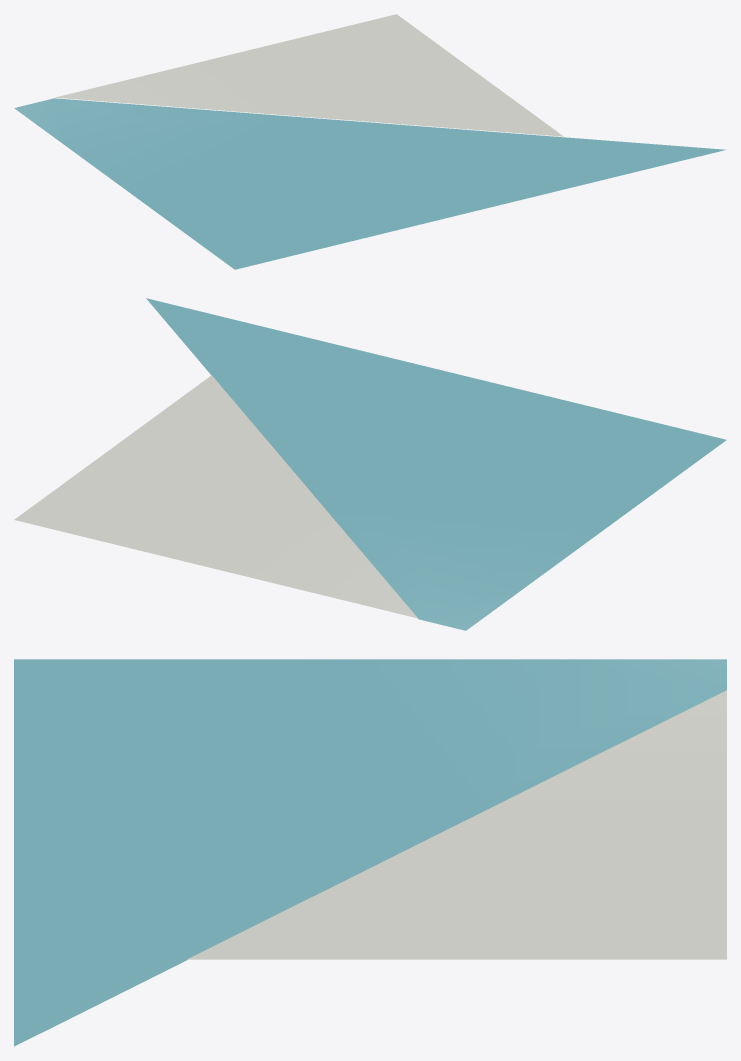
3 views of the same model, one above another, from view 1: azimuth 30°, elevation 25°; view 2: azimuth 150°, elevation 25°; view 3: azimuth 270°, elevation 25° (orthographic). The views are drawn at different scales.
Parts seen in each view (by area): view 1: city; view 2: city; view 3: city.
Boxes of the visible parts, bbox=[...] form: city: bbox=[14, 14, 726, 269]; city: bbox=[14, 298, 726, 630]; city: bbox=[14, 659, 726, 1046].
Bounding box in the file's own units: 154 × 0.18 × 120.
